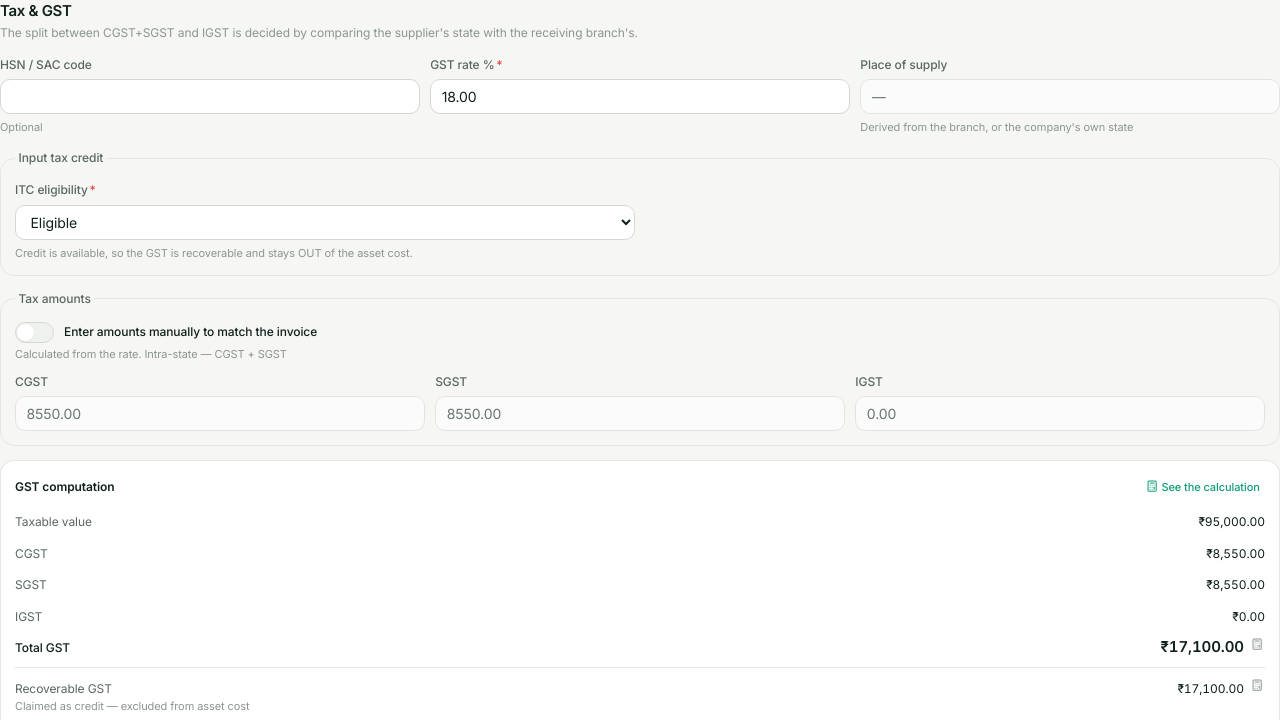
Test case: cost build-up drawer › explains the GST split from the tax tab
Click the button named "how was total gst calculated". click: (1257, 644)
box: left=1249, top=636, right=1265, bottom=652
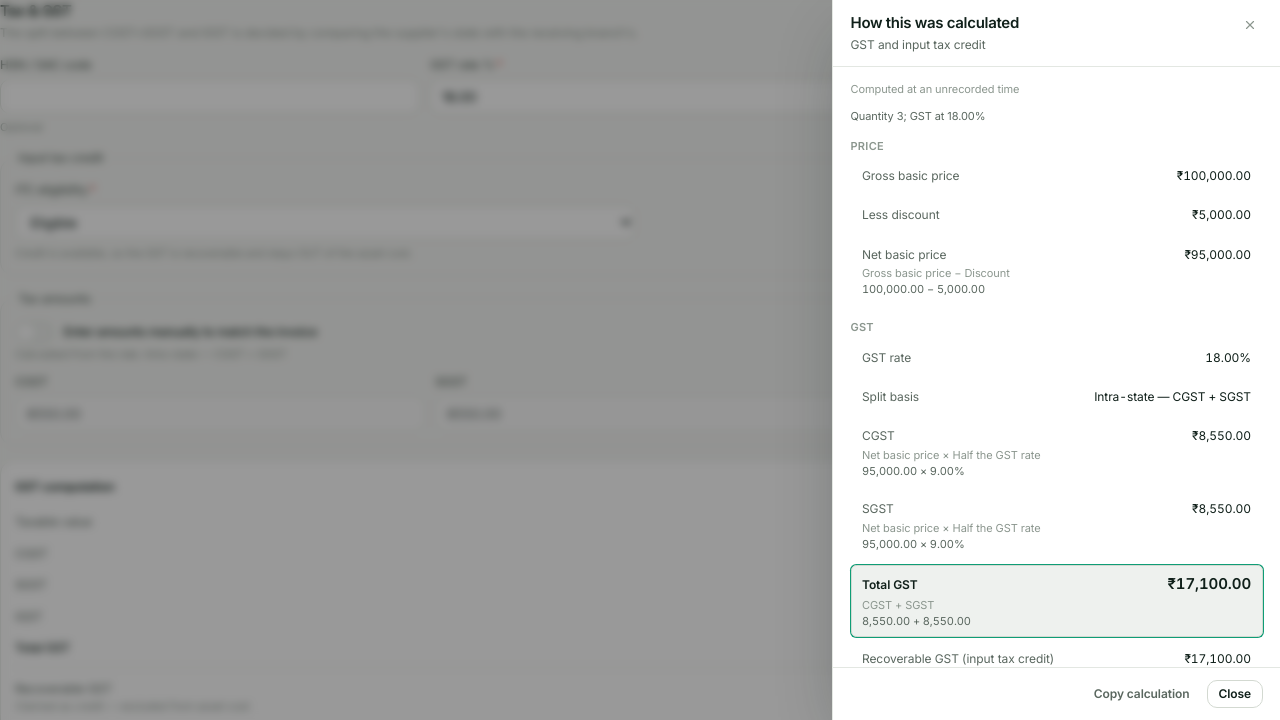
Now the text "Intra-state — CGST + SGST" is shown, box left=1094, top=388, right=1251, bottom=406
